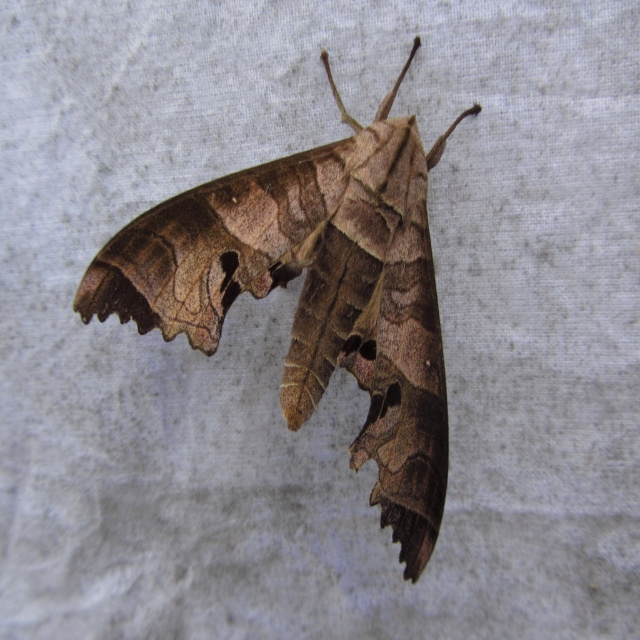Moths and butterflies: (73, 35, 483, 588)
